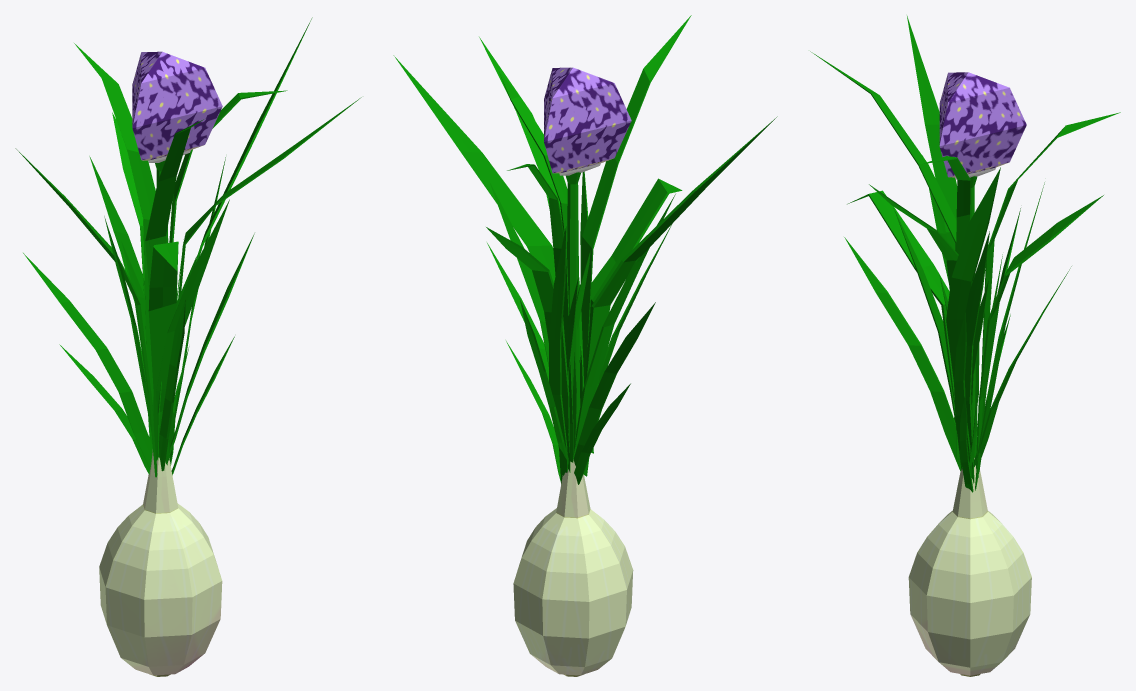
Rendered from Scallions.fbx.
3 views of the same model, side by side, from view 1: azimuth 30°, elevation 25°; view 2: azimuth 150°, elevation 25°; view 3: azimuth 270°, elevation 25° (orthographic). The views are drawn at different scales.
Parts seen in each view (by area): view 1: AdultScallion, AdultwithFLowerScallion, TeenScallion, BBScallion; view 2: AdultScallion, AdultwithFLowerScallion, TeenScallion, BBScallion; view 3: AdultScallion, AdultwithFLowerScallion, TeenScallion, BBScallion.
Boxes of the visible parts, x1,y1,x2,y2 form: AdultScallion: (15, 17, 361, 676); AdultwithFLowerScallion: (132, 51, 222, 160); TeenScallion: (89, 156, 229, 461); BBScallion: (59, 326, 234, 475); AdultScallion: (393, 15, 777, 676); AdultwithFLowerScallion: (544, 67, 631, 173); TeenScallion: (489, 171, 675, 484); BBScallion: (506, 341, 630, 484); AdultScallion: (810, 16, 1120, 676); AdultwithFLowerScallion: (939, 72, 1026, 177); TeenScallion: (893, 155, 1044, 490); BBScallion: (959, 314, 1010, 492).
Bounding box in the file's own units: 111 × 189 × 89.27.
